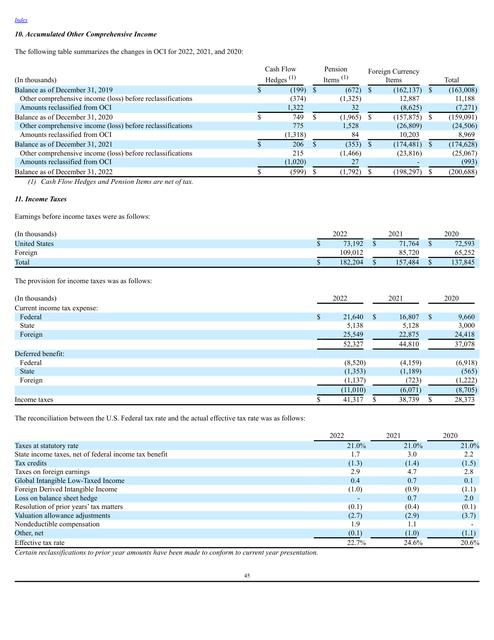box: (13, 432, 479, 559), (12, 65, 479, 180), (13, 293, 480, 408), (13, 227, 478, 270)
